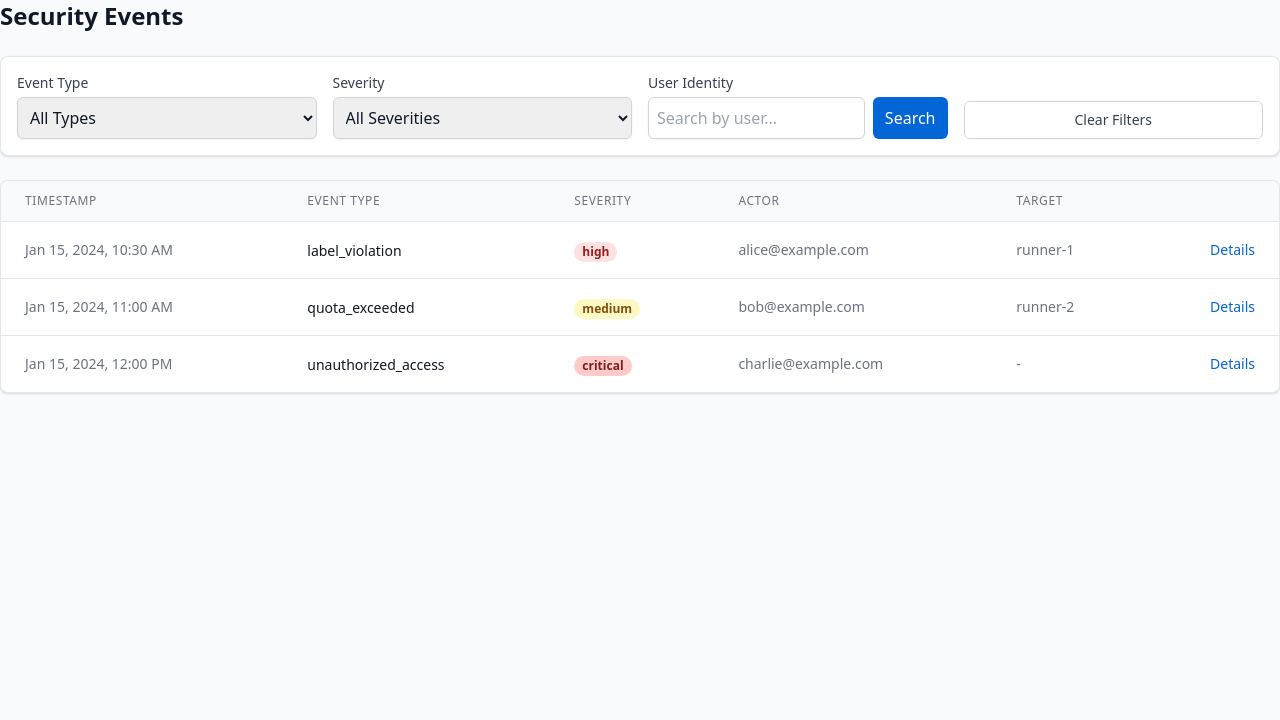
Test case: SecurityEvents › closes detail modal when close button is clicked
This screenshot has width=1280, height=720.
Note: Open modal
Click the button "Details" in the row of "Jan 15, 2024, 10:30 AM".
click(1232, 250)  # box x1=1210 y1=240 x2=1255 y2=260
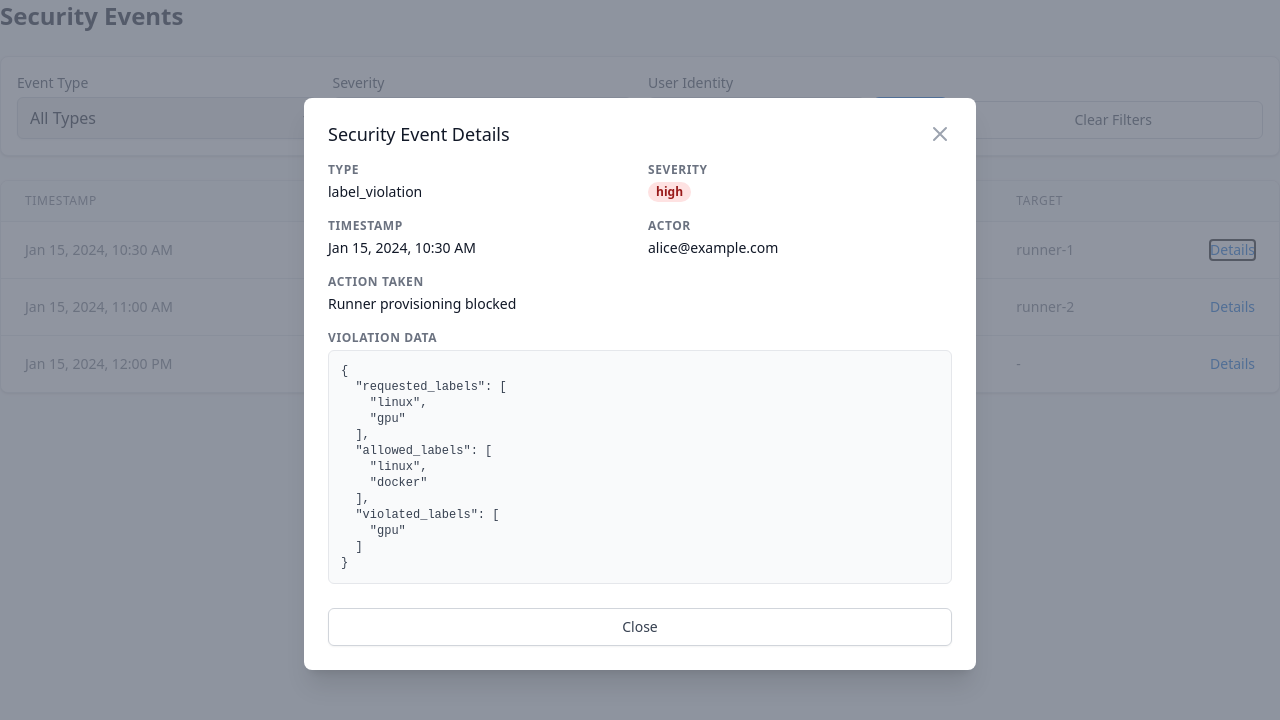
Note: Close modal
Click the button named "close".
click(940, 134)  # box x1=928 y1=122 x2=952 y2=146
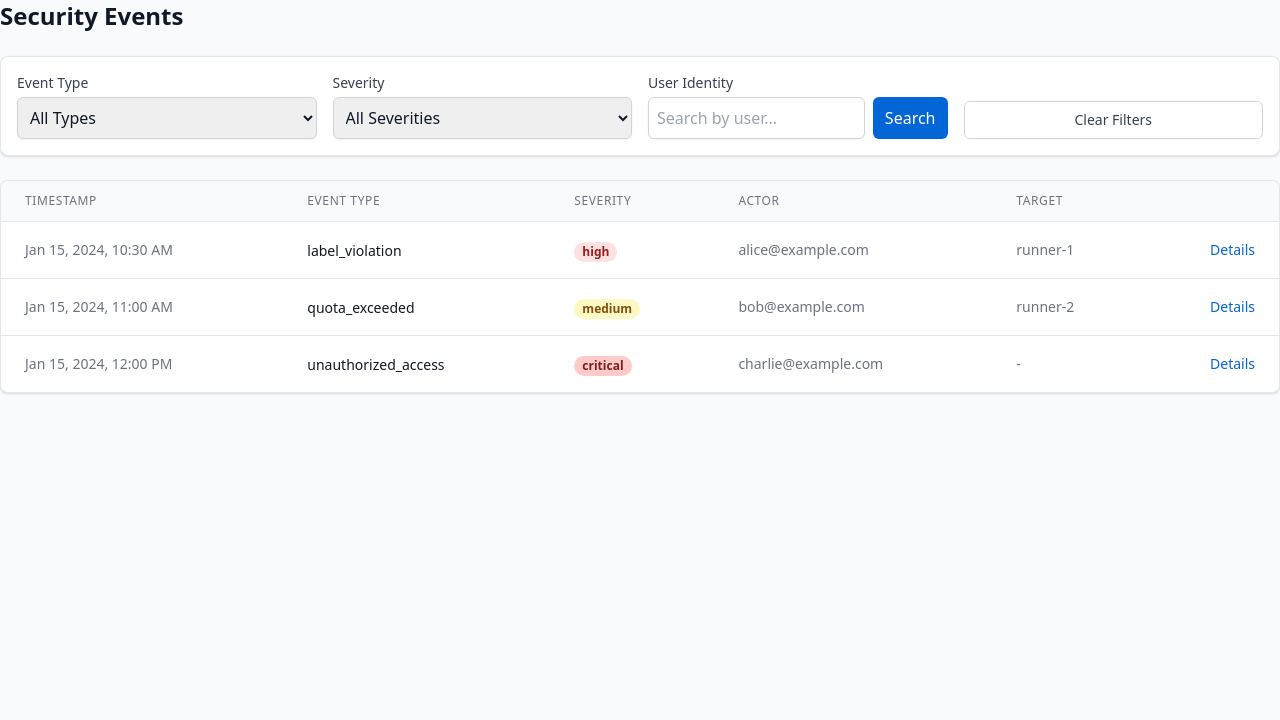
Expected: the heading "Security Event Details" is gone
